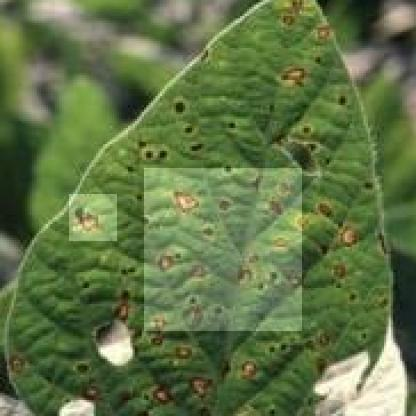black-spot: (144, 168, 302, 331), (69, 194, 117, 241)
